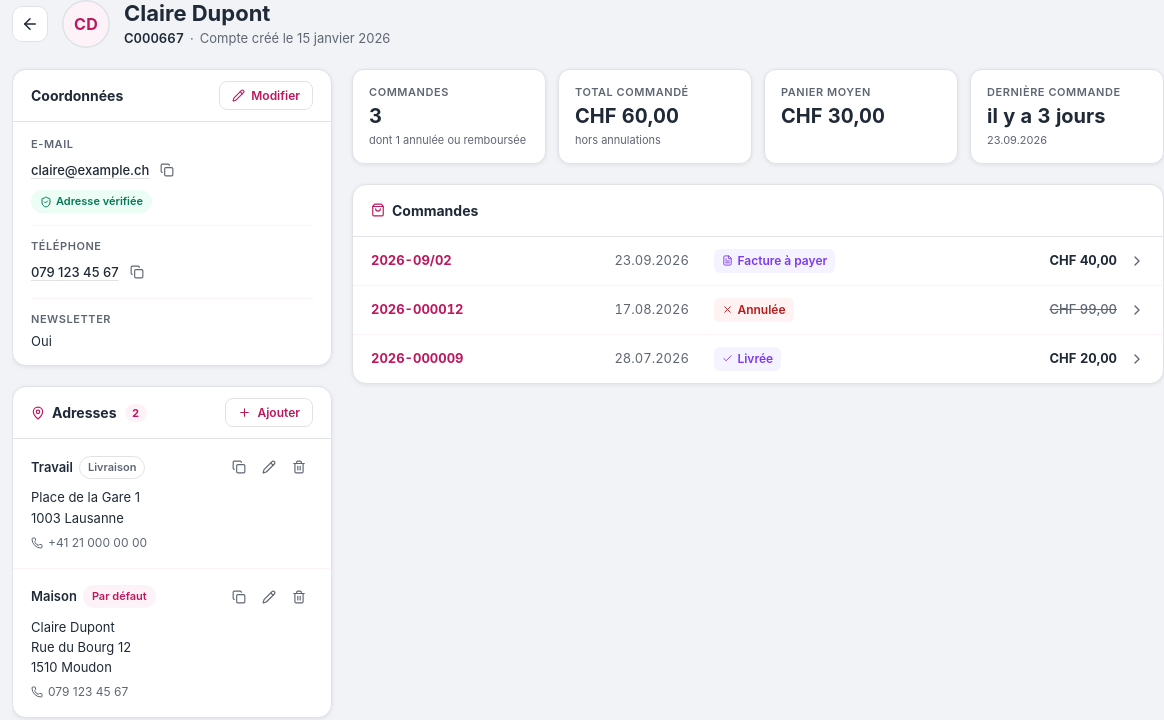
Scenario: CustomerDetail — fiche client › « Ajouter » ouvre le formulaire d'une nouvelle adresse
Click the button "Ajouter". click: (269, 413)
box: [226,398,313,427]
(page scrolled)
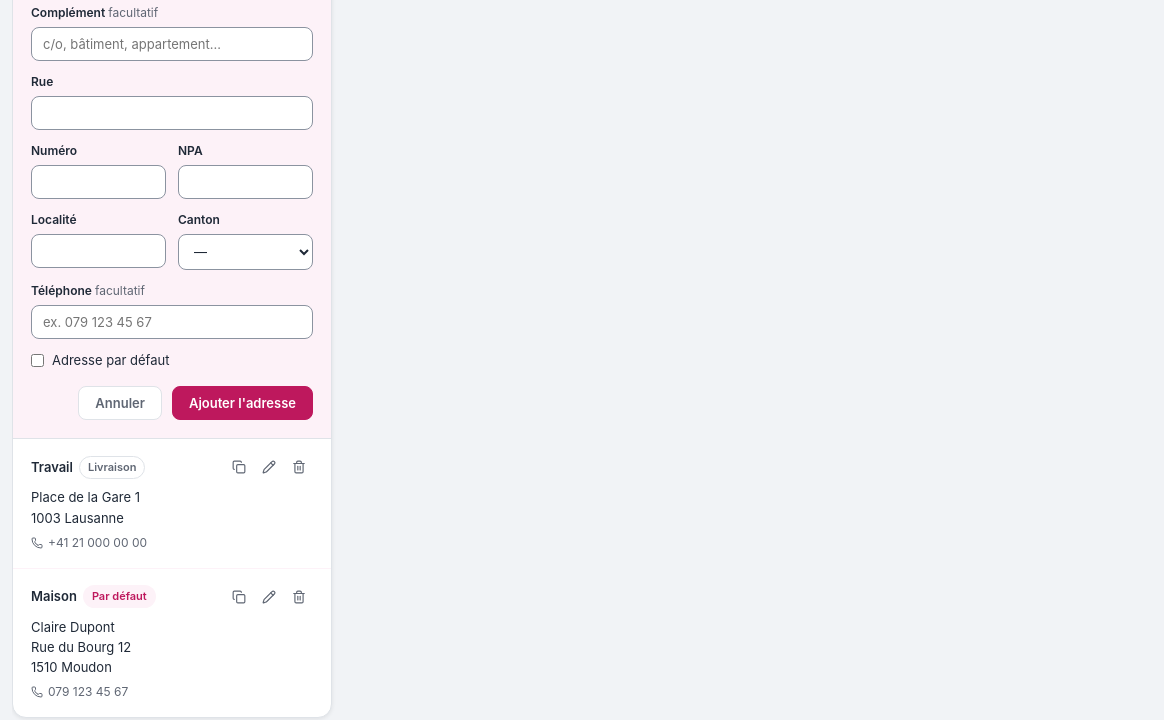
Result: the checkbox labelled "Adresse par défaut" is not checked at [31,354,44,367]
